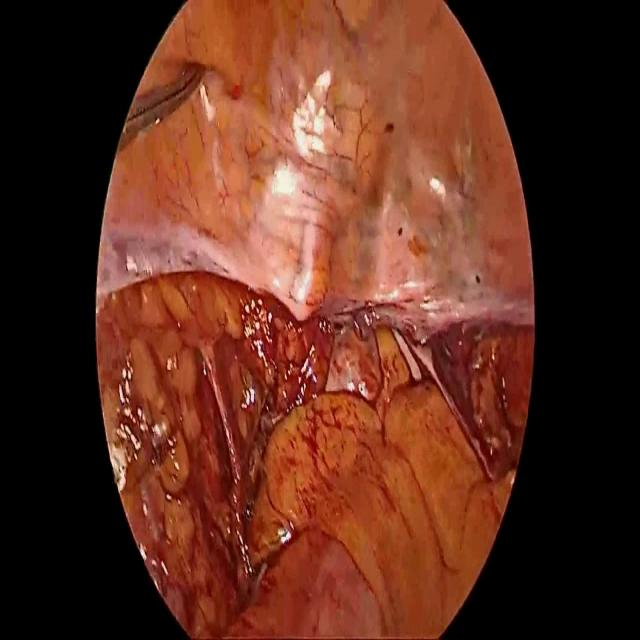surgical-area: (96, 0, 534, 639)
surgical-tool: (118, 64, 206, 150)
